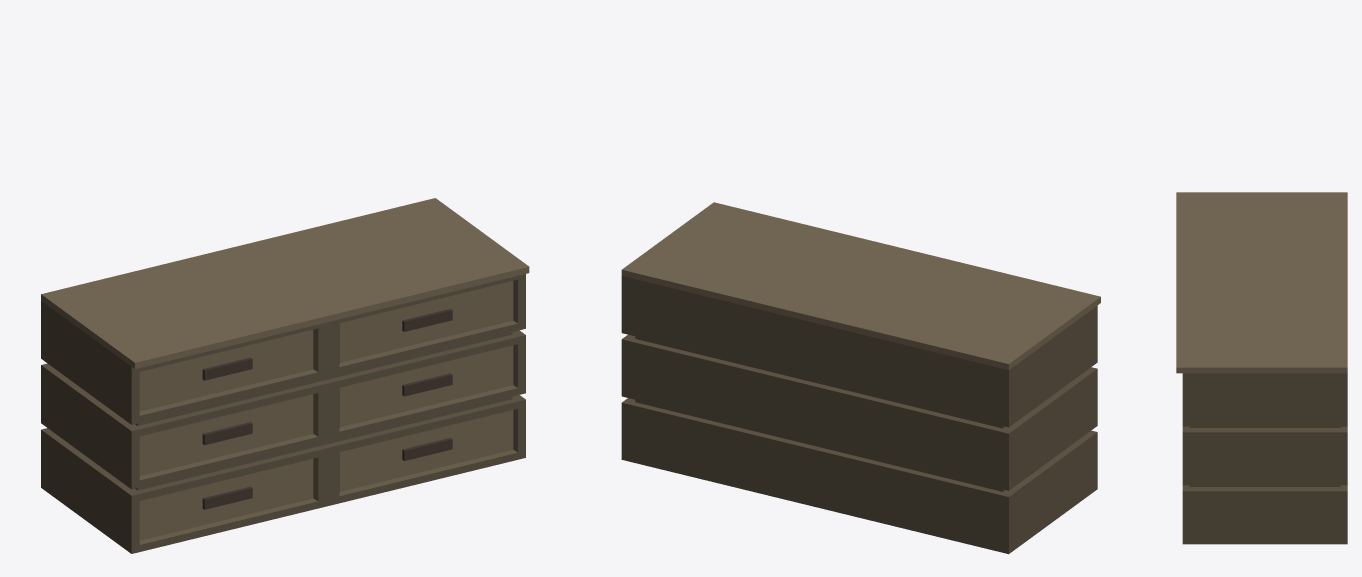
Rendered from TV DrawerOrStand.glb.
3 renders of one model, left to right at view 1: azimuth 30°, elevation 25°; view 2: azimuth 150°, elevation 25°; view 3: azimuth 270°, elevation 25°, orthographic. The views are drawn at different scales.
Visible parts, largest first — view 1: Drawer_5; view 2: Drawer_5; view 3: Drawer_5.
Boxes of the visible parts, x1,y1,x2,y2 form: Drawer_5: (41,198,529,553); Drawer_5: (621,202,1100,554); Drawer_5: (1176,192,1347,544).
Size of the model in its own units: 3.25 by 2.57 by 1.22.
